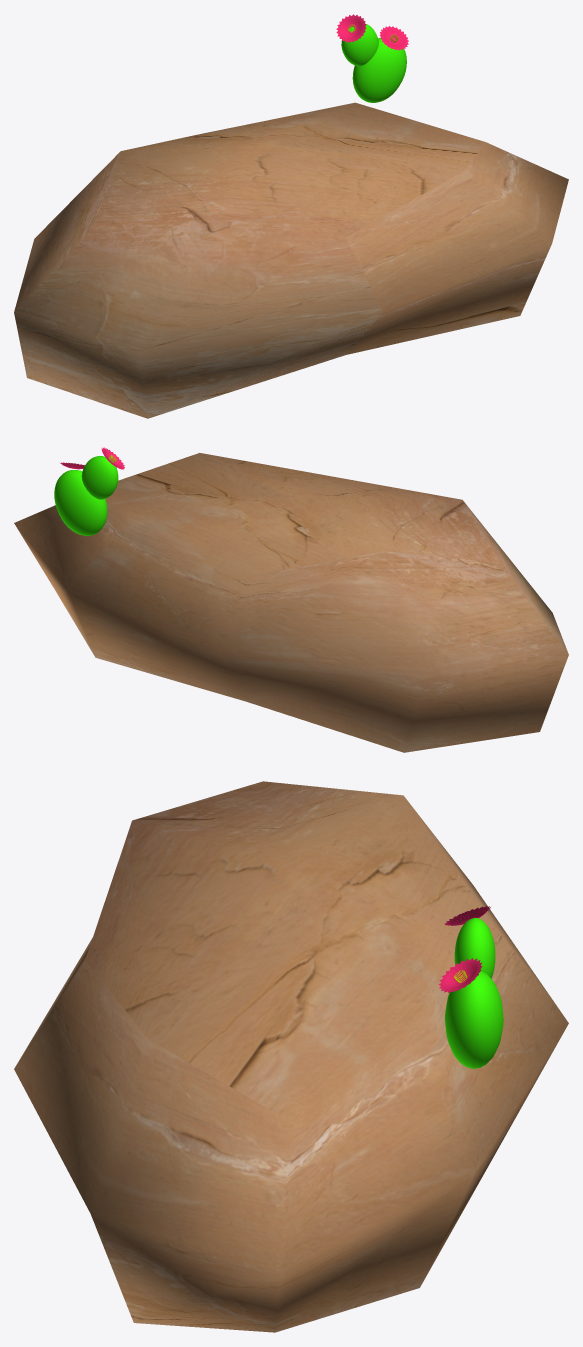
The model's file is Land8.obj.
The picture shows the model from 3 angles, top to bottom: view 1: azimuth 30°, elevation 25°; view 2: azimuth 150°, elevation 25°; view 3: azimuth 270°, elevation 25°; orthographic projection. The views are drawn at different scales.
Parts seen in each view (by area): view 1: RockSmall2:pCube1, group2 SmallCactus:pSphere1 group1, group2 group1 SmallCactus:pSphere2; view 2: RockSmall2:pCube1, group2 SmallCactus:pSphere1 group1, group2 group1 SmallCactus:pSphere2; view 3: RockSmall2:pCube1, group2 SmallCactus:pSphere1 group1, group2 group1 SmallCactus:pSphere2.
Part boxes in pixels (x1,y1,x2,y2): RockSmall2:pCube1: (14, 102, 568, 418); group2 SmallCactus:pSphere1 group1: (352, 37, 406, 102); group2 group1 SmallCactus:pSphere2: (341, 23, 378, 66); RockSmall2:pCube1: (14, 453, 568, 752); group2 SmallCactus:pSphere1 group1: (54, 470, 107, 535); group2 group1 SmallCactus:pSphere2: (81, 456, 118, 499); RockSmall2:pCube1: (14, 781, 568, 1332); group2 SmallCactus:pSphere1 group1: (445, 971, 503, 1068); group2 group1 SmallCactus:pSphere2: (454, 918, 495, 978).
Size of the model in its own units: 7 by 3.16 by 3.82.
Materials: 4 (1 with a texture image).
